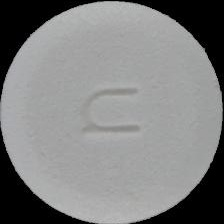68084-040: (0, 0, 224, 224)
